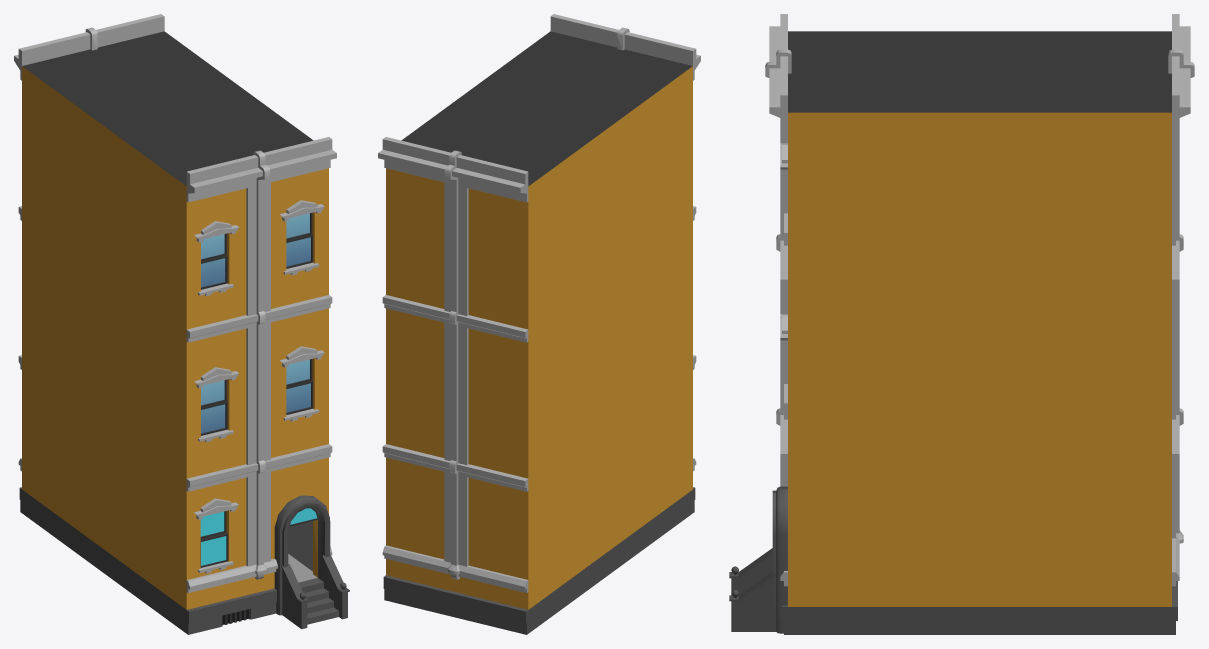
Rendered from SM_Buildings_House_01_V2.fbx.
The picture shows the model from 3 angles, left to right: view 1: azimuth 30°, elevation 25°; view 2: azimuth 150°, elevation 25°; view 3: azimuth 270°, elevation 25°; orthographic projection. The views are drawn at different scales.
Visible parts, largest first — view 1: SM_Buildings_House_01_V2; view 2: SM_Buildings_House_01_V2; view 3: SM_Buildings_House_01_V2.
Boxes of the visible parts, bbox=[...] form: SM_Buildings_House_01_V2: bbox=[14, 14, 349, 634]; SM_Buildings_House_01_V2: bbox=[378, 14, 700, 634]; SM_Buildings_House_01_V2: bbox=[729, 14, 1194, 634].
Size of the model in its own units: 5 by 15.6 by 12.1.
